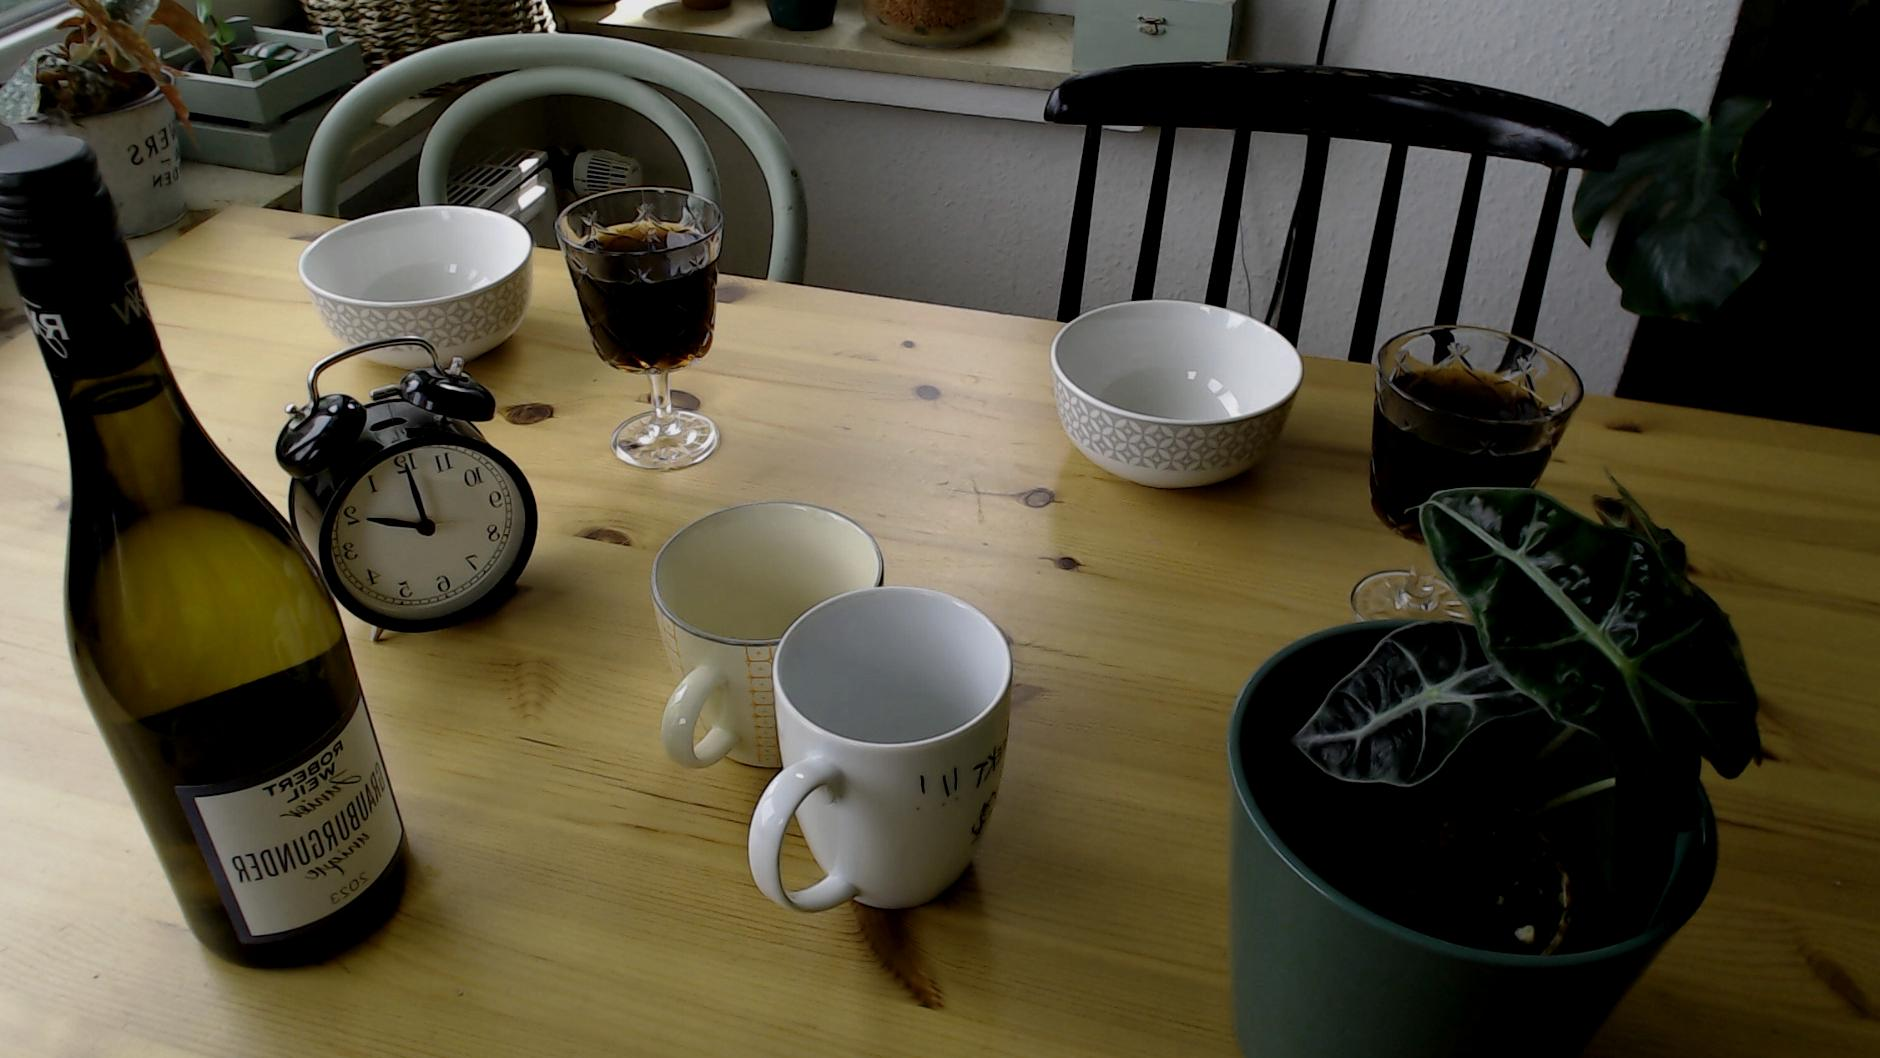bottle: (0, 127, 411, 968)
bowl_close: (1047, 298, 1311, 491)
bowl_far: (297, 203, 535, 367)
clock: (319, 439, 535, 629)
cup_close: (745, 585, 1012, 916)
cup_far: (649, 500, 883, 773)
potted_plant: (1225, 490, 1762, 1052)
wineglass_close: (1349, 326, 1584, 619)
wineglass_far: (555, 176, 724, 468)
